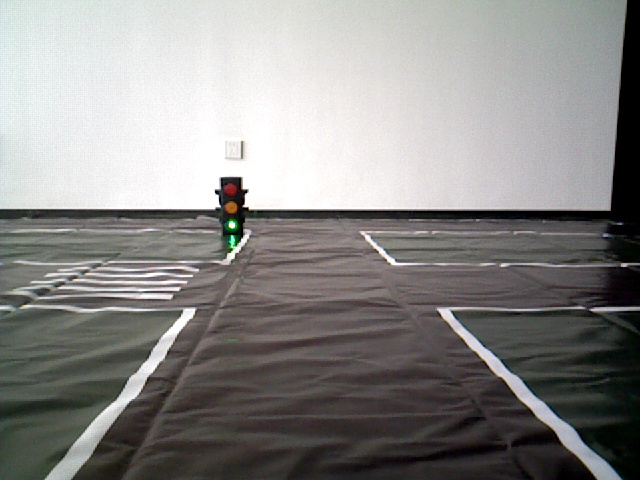green: (215, 181, 239, 230)
